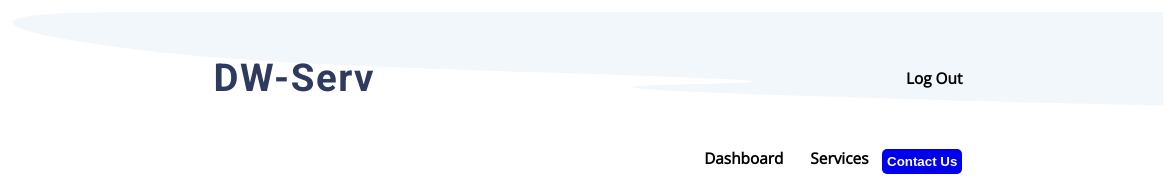
Test case: .Navbar › Component renders if a user is logged in and then logs out
Expected: the link "Log In" is not shown
Click the link "Log Out": (934, 78) [906,68,962,89]
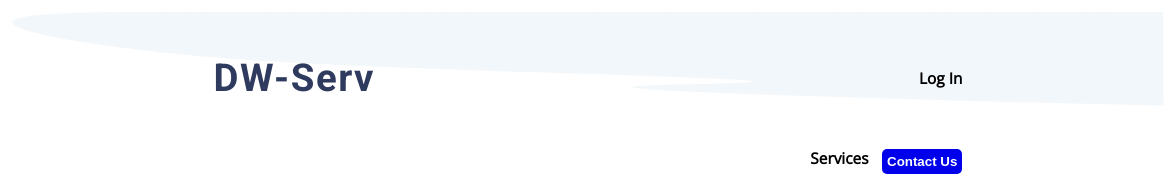
Expected: the link "Log In" is shown, [919,68,962,89]
Expected: the link "Log Out" is gone
